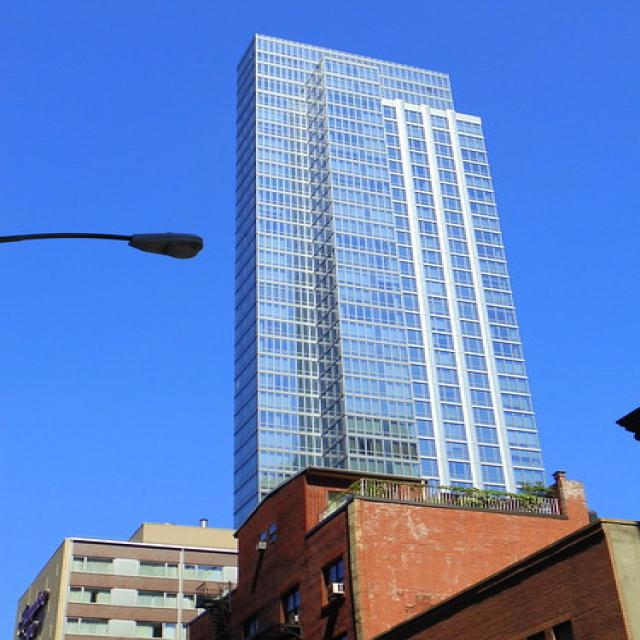Normal_building: (220, 33, 567, 636)
